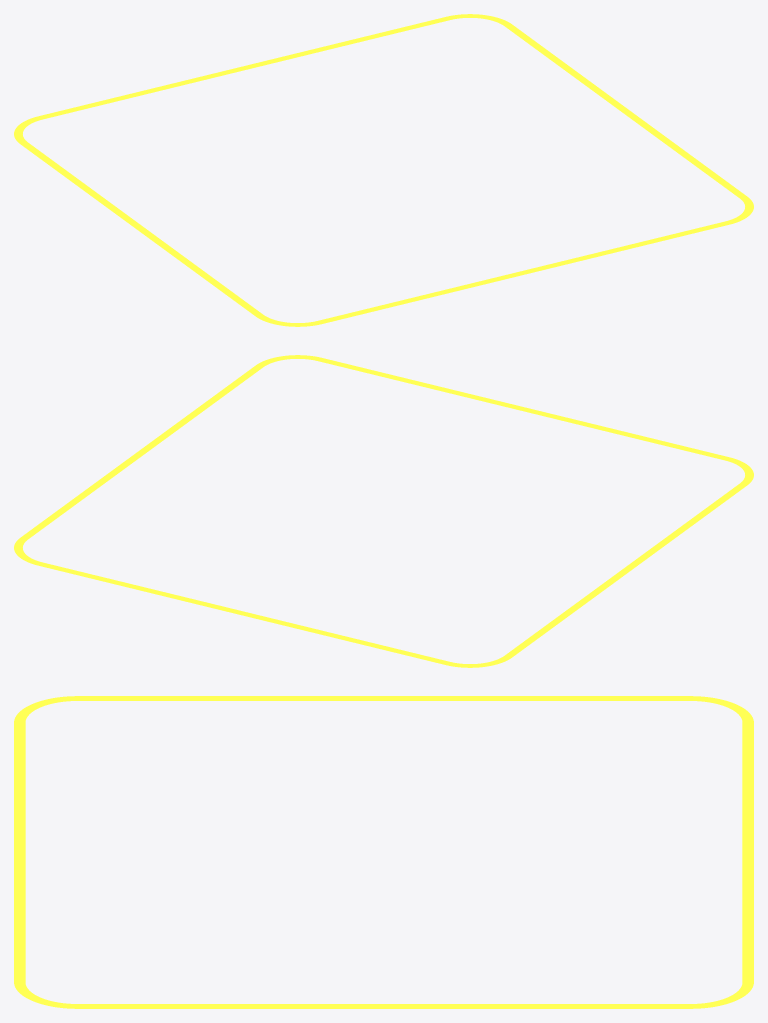
Rendered from rim.glb.
3 renders of one model, top to bottom at view 1: azimuth 30°, elevation 25°; view 2: azimuth 150°, elevation 25°; view 3: azimuth 270°, elevation 25°, orthographic. The views are drawn at different scales.
Visible parts, largest first — view 1: rim; view 2: rim; view 3: rim.
Boxes of the visible parts, <box> form: rim: <box>14,14,753,326</box>; rim: <box>14,355,753,667</box>; rim: <box>14,696,753,1008</box>.
Size of the model in its own units: 0.193 by 0 by 0.193.
